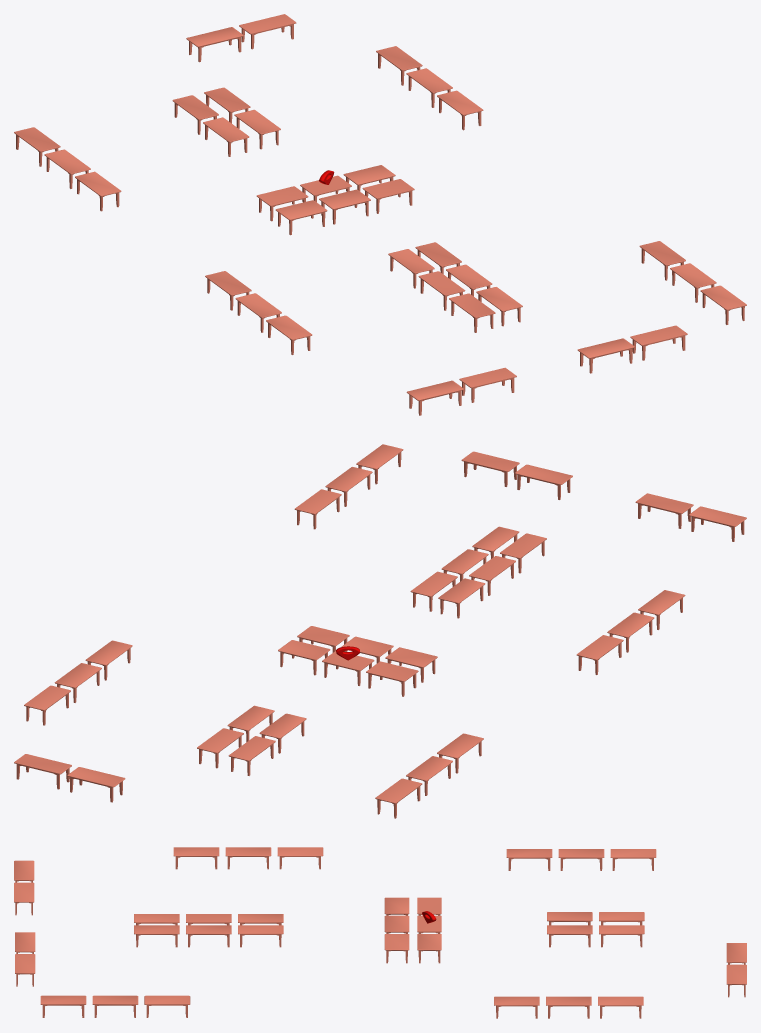
Rendered from boothCourtV3.glb.
The picture shows the model from 3 angles, top to bottom: view 1: azimuth 30°, elevation 25°; view 2: azimuth 150°, elevation 25°; view 3: azimuth 270°, elevation 25°; orthographic projection. The views are drawn at different scales.
Visible parts, largest first — view 1: old_table.014; view 2: old_table.014; view 3: old_table.014.
Boxes of the visible parts, bbox=[...] form: old_table.014: bbox=[14, 14, 746, 415]; old_table.014: bbox=[14, 444, 746, 818]; old_table.014: bbox=[14, 847, 746, 1018].
Bounding box in the file's own units: 22.39 × 1.65 × 43.91.
